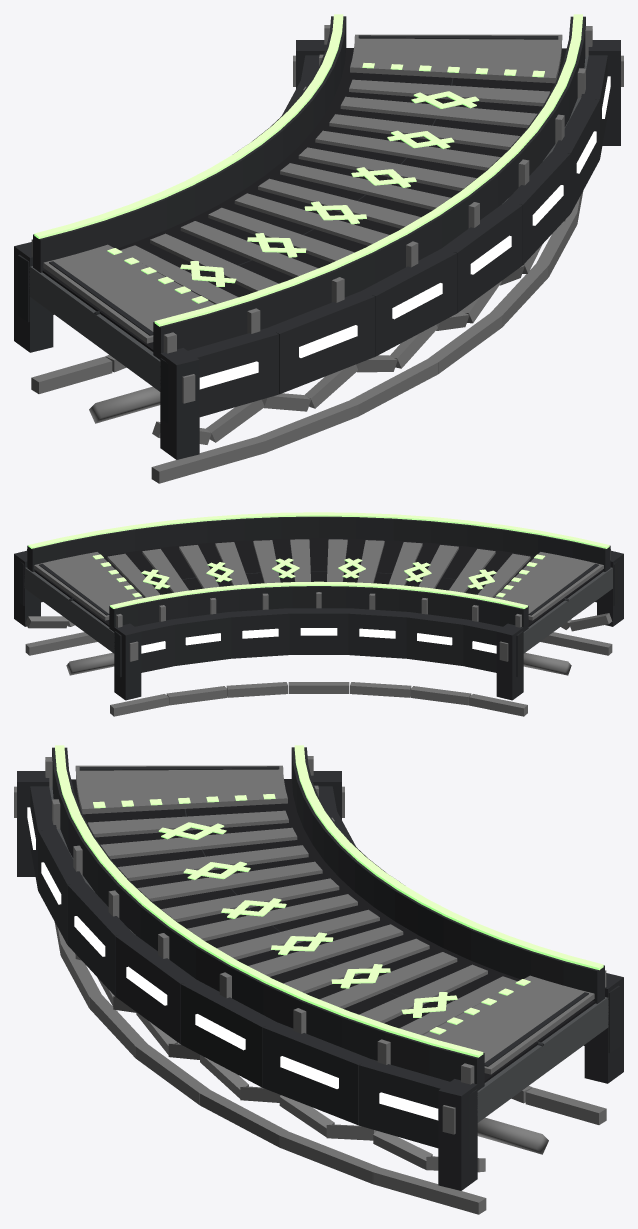
File: Curve_60_Conveyor_Belt_v4.glb
3 renders of one model, top to bottom at view 1: azimuth 30°, elevation 25°; view 2: azimuth 150°, elevation 25°; view 3: azimuth 270°, elevation 25°, orthographic. The views are drawn at different scales.
Visible parts, largest first — view 1: Curve_60_Conveyor_Belt_v4, Treads, TreadsRev; view 2: Curve_60_Conveyor_Belt_v4, Treads, TreadsRev; view 3: Curve_60_Conveyor_Belt_v4, Treads, TreadsRev.
Part boxes in pixels (x1=…): Curve_60_Conveyor_Belt_v4: x1=14, y1=14, x2=623, y2=483; Treads: x1=120, y1=79, x2=550, y2=304; TreadsRev: x1=122, y1=79, x2=549, y2=304; Curve_60_Conveyor_Belt_v4: x1=14, y1=512, x2=623, y2=716; Treads: x1=107, y1=539, x2=528, y2=597; TreadsRev: x1=107, y1=539, x2=530, y2=597; Curve_60_Conveyor_Belt_v4: x1=14, y1=745, x2=623, y2=1214; Treads: x1=87, y1=810, x2=517, y2=1035; TreadsRev: x1=88, y1=812, x2=516, y2=1034.
Bounding box in the file's own units: 8.12 × 1.83 × 6.42.
